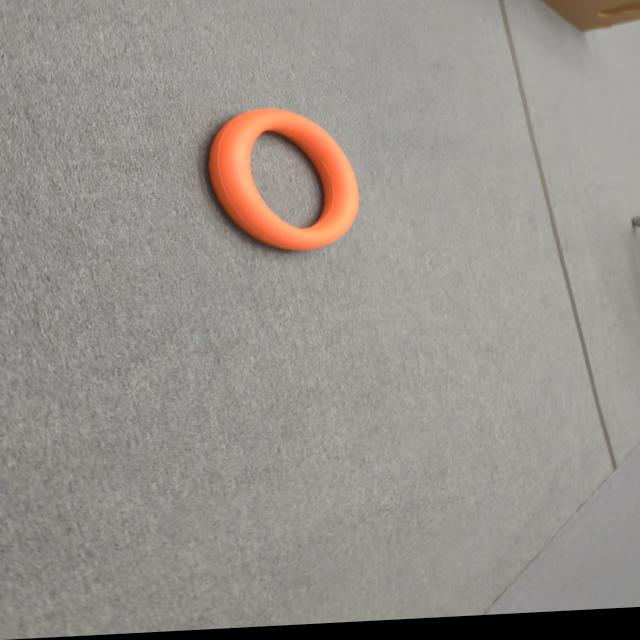note: (208, 109, 358, 257)
